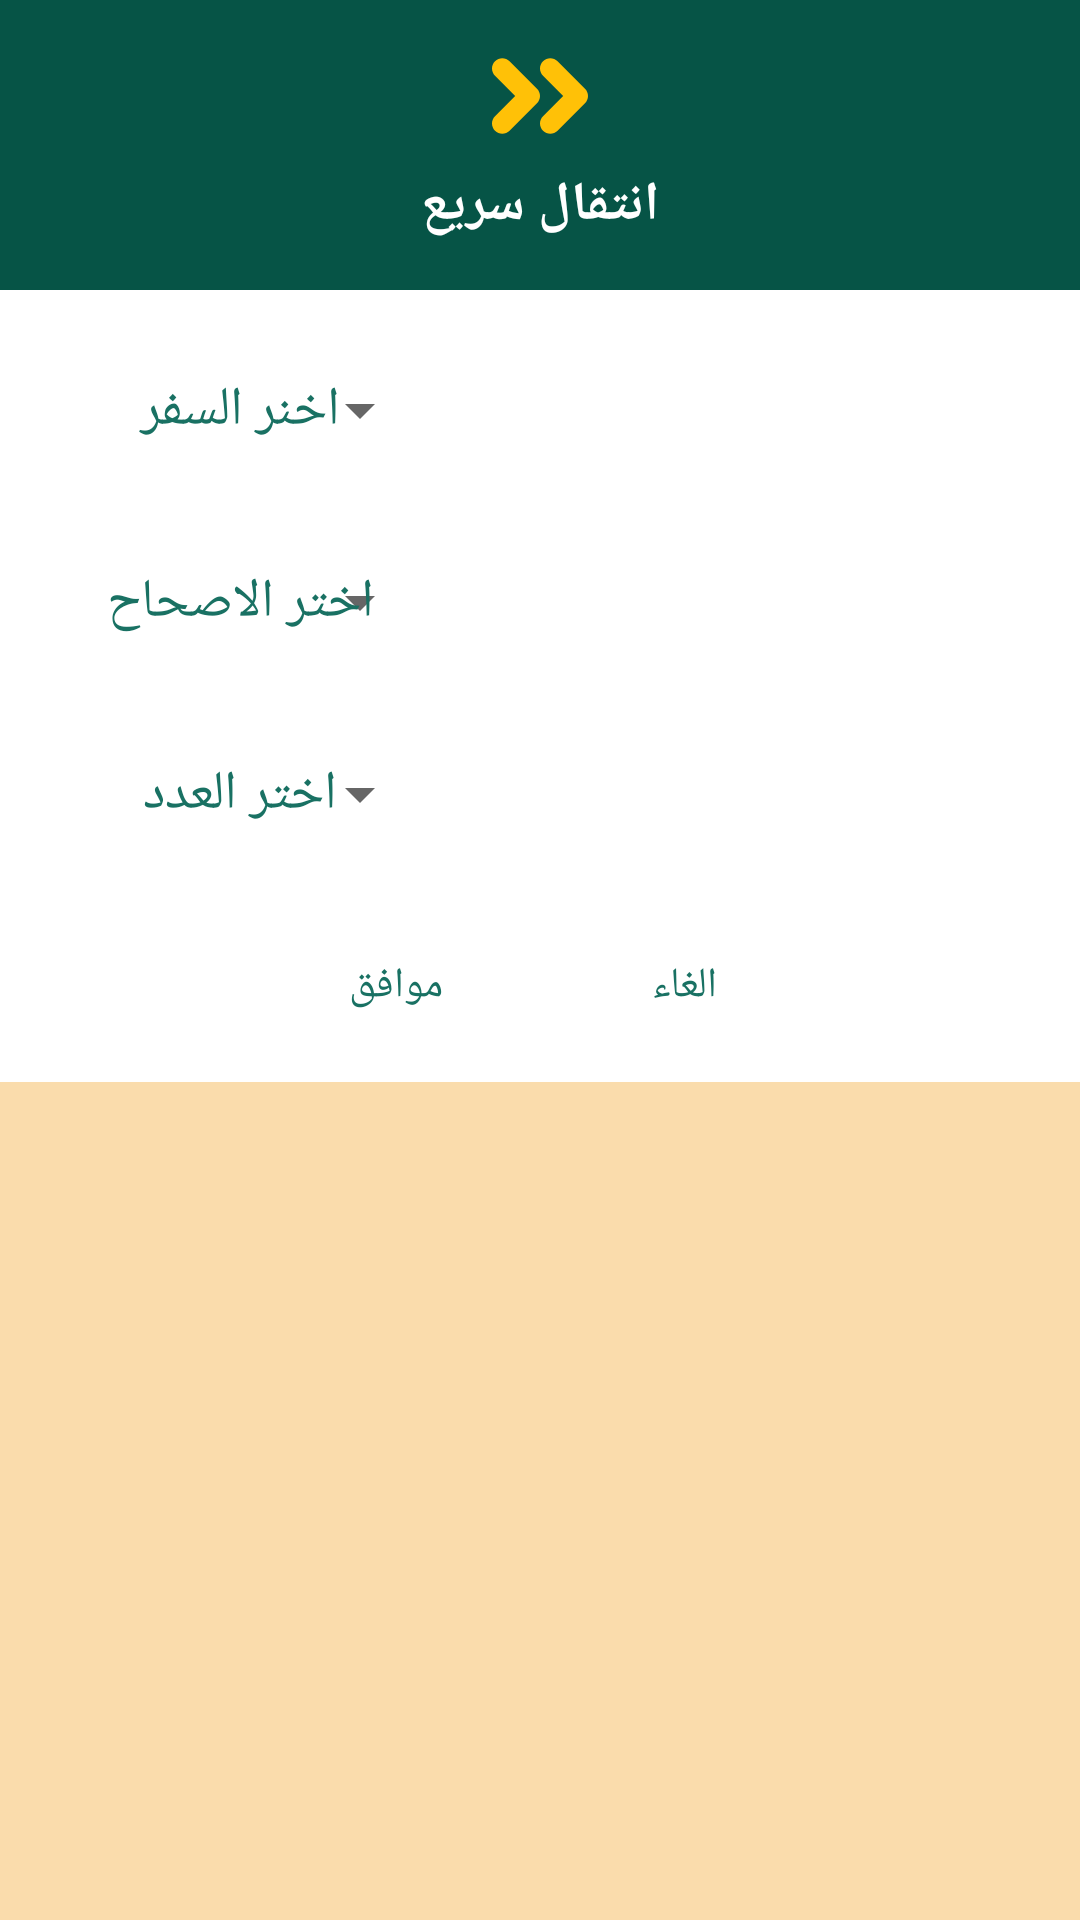

Icons on this 1080px x 1920px Android screen, each with its box as {"left": x1, "top": y1, "right": x2, "bottom": y2}:
fast forward: {"left": 492, "top": 58, "right": 588, "bottom": 134}
